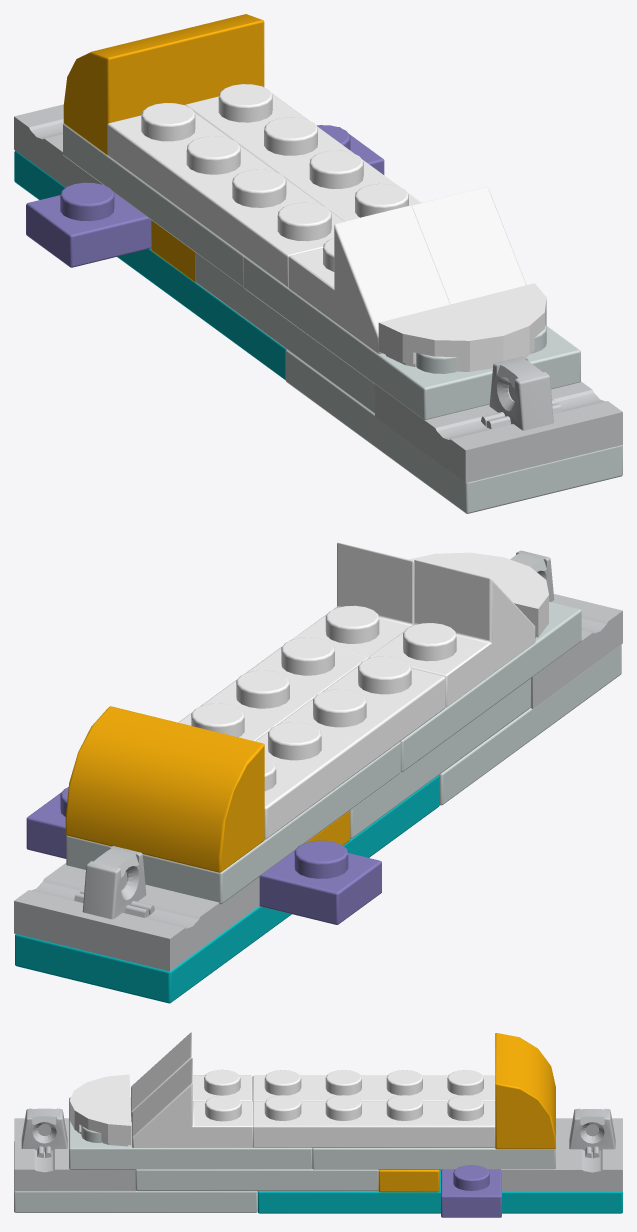
Rendered from Passo15.fbx.
3 renders of one model, top to bottom at view 1: azimuth 30°, elevation 25°; view 2: azimuth 150°, elevation 25°; view 3: azimuth 270°, elevation 25°, orthographic. The views are drawn at different scales.
Parts seen in each view (by area): view 1: Plate_1x4__1_.001, Hinge_plate_2x2__1_.003, Brick_curved_2x1.001, Slope_2x1_2__1_, Plate_1x4__2_.001, Plate_2x4__2_.002, Plate_2x4__1__1.002, Tile_round_1x2.007, Plate_1x4.004, Slope_2x1_2, Plate_2x6.005, Plate_2x4__1_.003 (+3 smaller); view 2: Brick_curved_2x1.001, Hinge_plate_2x2.005, Plate_1x4__1_.001, Slope_2x1_2__1_, Plate_2x6.005, Plate_1x4.004, Plate_2x4__1_.003, Plate_1x4__2_.001, Slope_2x1_2, Plate_2x4__2_.002, Plate_2x4__1__1.002, Plate_2x4.004 (+3 smaller); view 3: Plate_1x4__2_.001, Plate_2x6.005, Slope_2x1_2, Hinge_plate_2x2.005, Brick_curved_2x1.001, Plate_1x4__1_.001, Plate_2x4__2_.002, Hinge_plate_2x2__1_.003, Plate_2x4.004, Plate_2x4__1__1.002, Plate_2x4__1_.003, Tile_round_1x2.007 (+3 smaller).
Part boxes in pixels (x1,y1,x2,y2): Plate_1x4__1_.001: [107, 103, 343, 287]; Hinge_plate_2x2__1_.003: [375, 356, 622, 482]; Brick_curved_2x1.001: [63, 14, 264, 154]; Slope_2x1_2__1_: [288, 205, 450, 353]; Plate_1x4__2_.001: [185, 84, 421, 221]; Plate_2x4__2_.002: [243, 256, 580, 419]; Plate_2x4__1__1.002: [285, 350, 622, 513]; Tile_round_1x2.007: [378, 283, 546, 371]; Plate_1x4.004: [26, 125, 384, 267]; Slope_2x1_2: [411, 187, 526, 304]; Plate_2x6.005: [14, 150, 286, 379]; Plate_2x4__1_.003: [63, 123, 244, 287]; Brick_curved_2x1.001: [65, 706, 264, 872]; Hinge_plate_2x2.005: [14, 846, 259, 971]; Plate_1x4__1_.001: [255, 656, 445, 839]; Slope_2x1_2__1_: [369, 559, 535, 707]; Plate_2x6.005: [15, 775, 439, 1003]; Plate_1x4.004: [26, 787, 381, 924]; Plate_2x4__1_.003: [66, 742, 400, 904]; Plate_1x4__2_.001: [178, 637, 367, 741]; Slope_2x1_2: [293, 542, 414, 658]; Plate_2x4__2_.002: [400, 601, 581, 772]; Plate_2x4__1__1.002: [439, 644, 621, 805]; Plate_2x4.004: [350, 678, 530, 838]; Plate_1x4__2_.001: [253, 1095, 495, 1147]; Plate_2x6.005: [257, 1170, 622, 1213]; Slope_2x1_2: [132, 1058, 252, 1147]; Hinge_plate_2x2.005: [501, 1108, 622, 1191]; Brick_curved_2x1.001: [495, 1033, 555, 1149]; Plate_1x4__1_.001: [252, 1070, 495, 1101]; Plate_2x4__2_.002: [69, 1097, 312, 1169]; Hinge_plate_2x2__1_.003: [14, 1108, 135, 1191]; Plate_2x4.004: [135, 1169, 378, 1191]; Plate_2x4__1__1.002: [14, 1141, 257, 1212]; Plate_2x4__1_.003: [312, 1148, 555, 1170]; Tile_round_1x2.007: [69, 1074, 131, 1146].
Size of the model in its own units: 0.3199 by 0.1889 by 0.8002.
